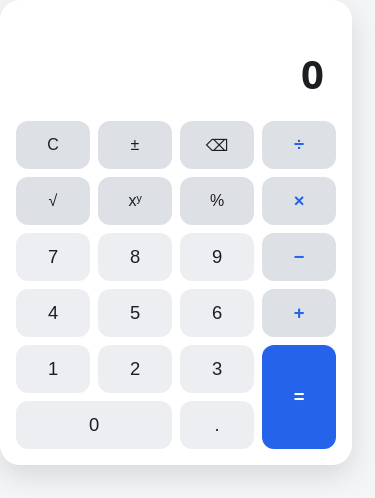
Test: Calculator › applies square root from the keypad
The image size is (375, 498).
Click the button "9" at (217, 257), box [180, 233, 254, 281]
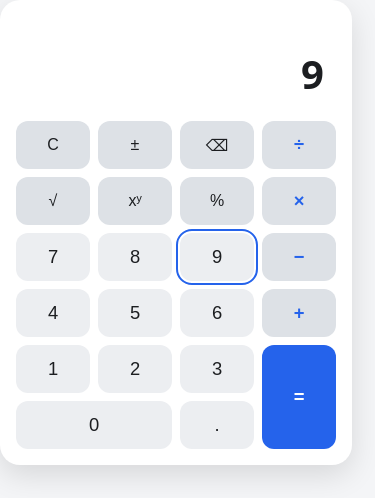
Click the button named "square root" at (53, 201), box [16, 177, 90, 225]
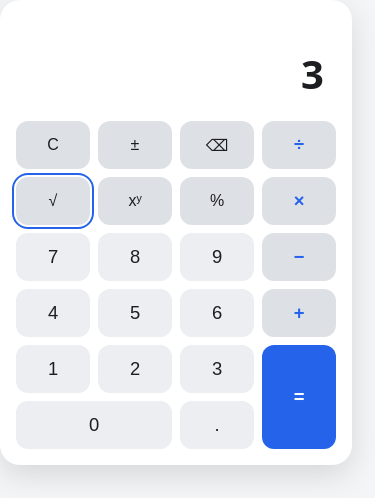
Now the message reads "3", box [301, 46, 324, 101]
